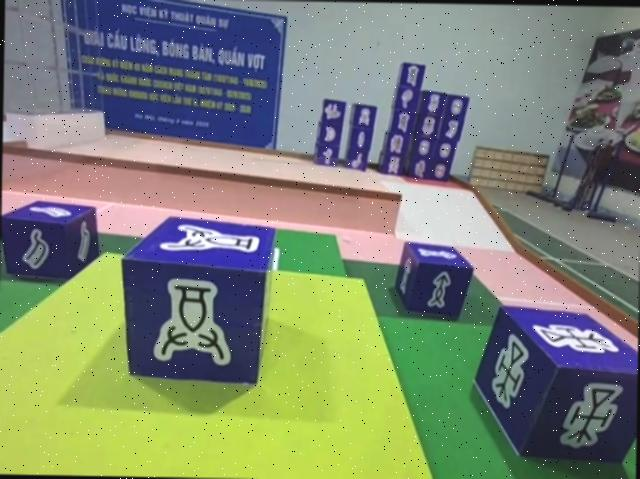R2 Real Blue: (121, 213, 280, 388), (473, 307, 639, 465), (0, 201, 102, 285), (393, 241, 475, 321)
